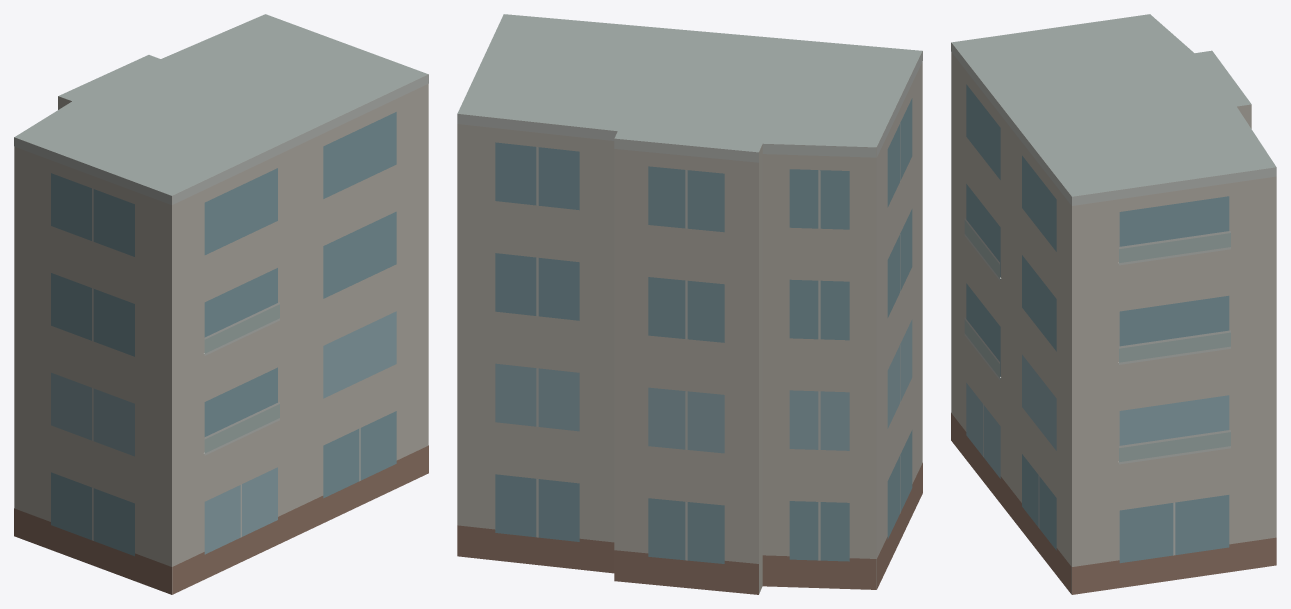
The model's file is survey-upis-33013072.glb.
The picture shows the model from 3 angles, left to right: view 1: azimuth 30°, elevation 25°; view 2: azimuth 150°, elevation 25°; view 3: azimuth 270°, elevation 25°; orthographic projection. The views are drawn at different scales.
Parts seen in each view (by area): view 1: survey-upis-33013072.tmp; view 2: survey-upis-33013072.tmp; view 3: survey-upis-33013072.tmp.
Boxes of the visible parts, box(x1,y1,x2,y2) form: survey-upis-33013072.tmp: box(14, 14, 428, 594); survey-upis-33013072.tmp: box(457, 14, 922, 594); survey-upis-33013072.tmp: box(951, 14, 1276, 594).
Bounding box in the file's own units: 10.35 × 10.5 × 7.79.
